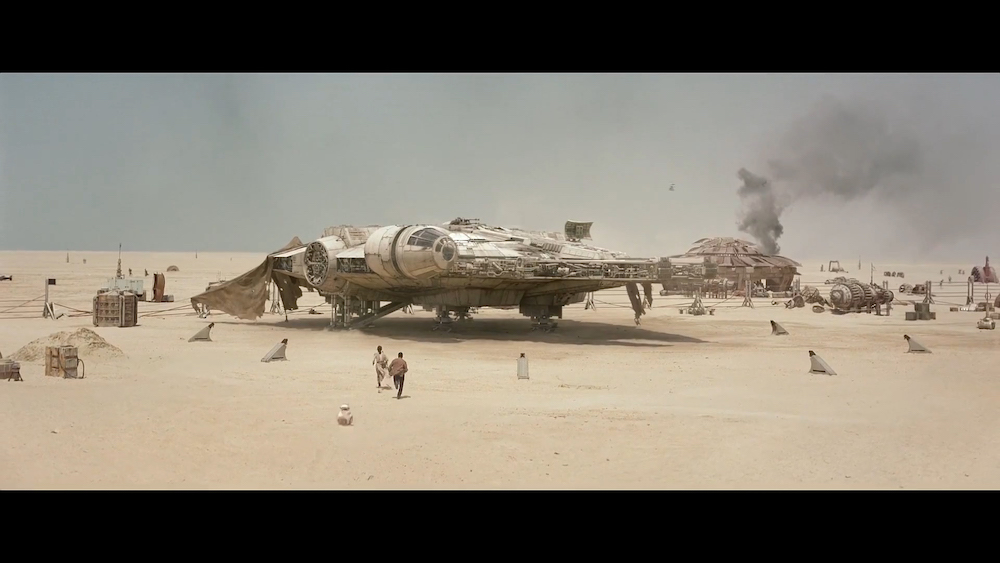Millennium Falcon: (269, 220, 718, 306)
Tie Fighter: (670, 184, 675, 192)
